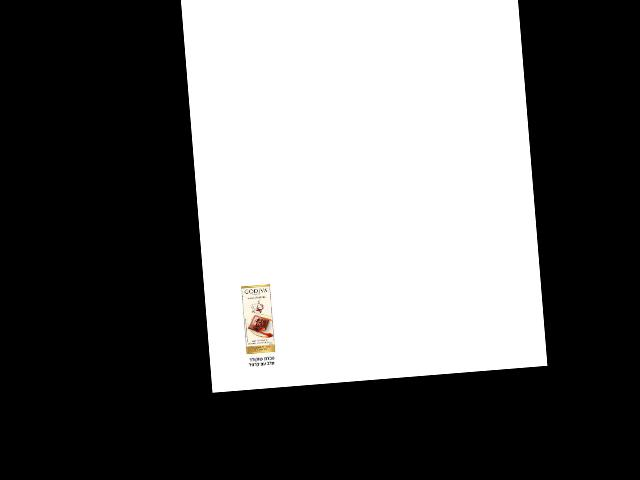chocolate: (241, 282, 277, 356)
